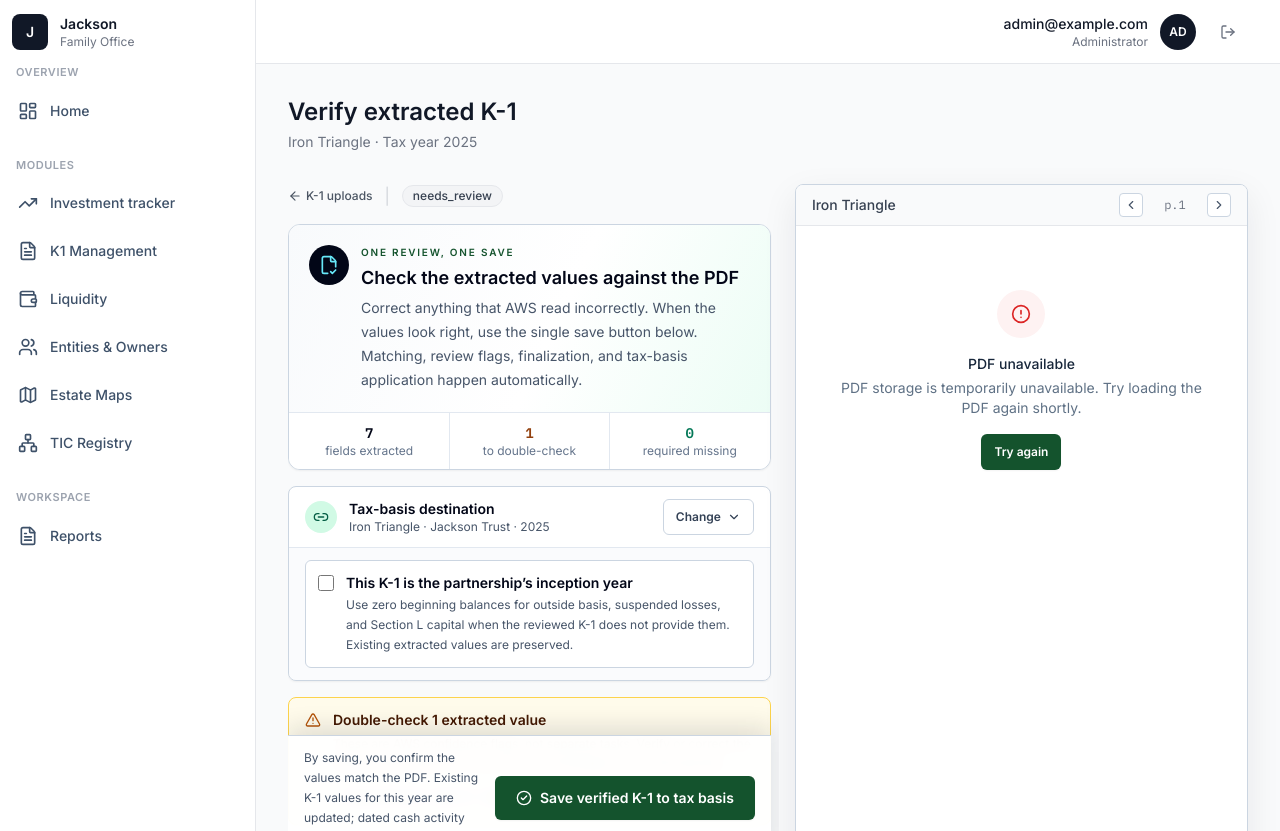
Test: K1ReviewWorkspace simplified scan flow › acknowledges extraction flags, finalizes, previews, and applies with one click
The image size is (1280, 831).
Click the button "Save verified K-1 to tax basis" at (625, 798), box [495,776,755,820]
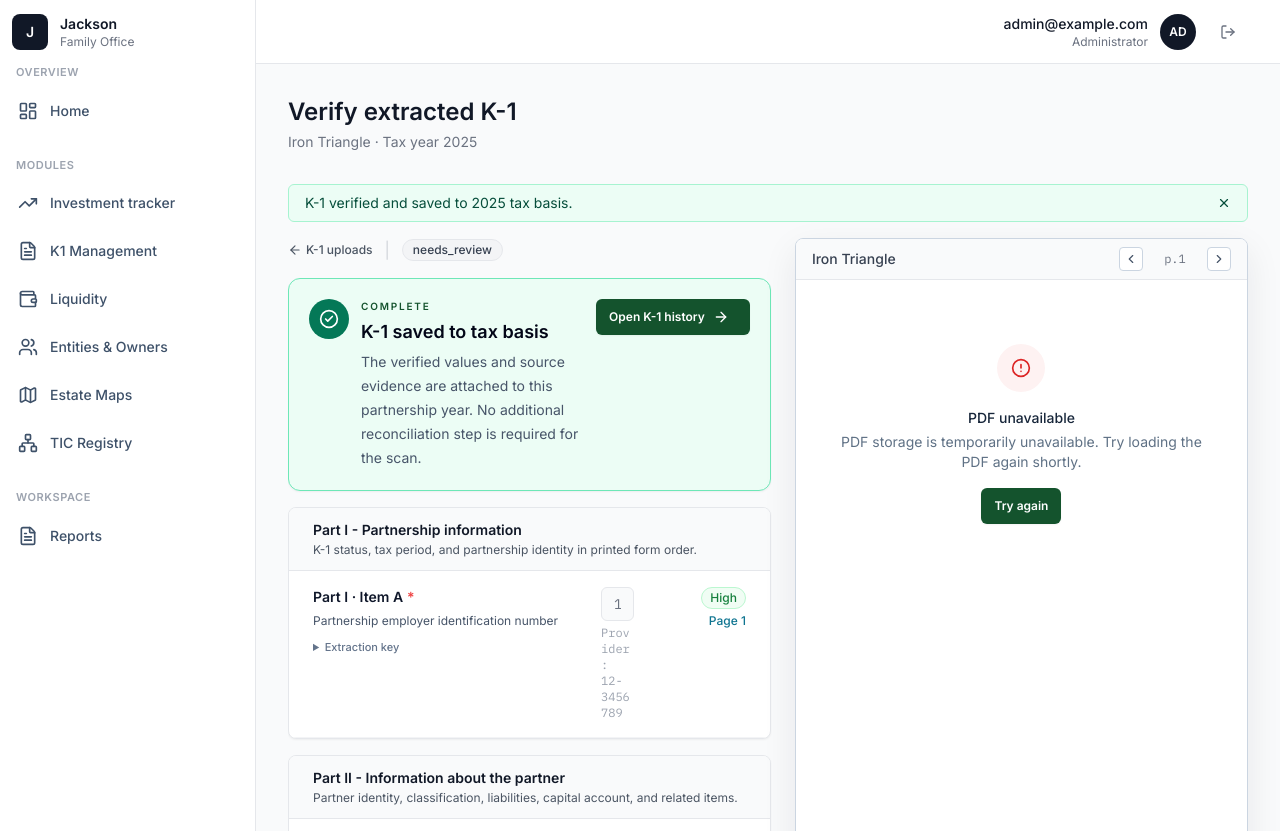
Check: the heading "K-1 saved to tax basis" is shown, box [361,321,549,342]
